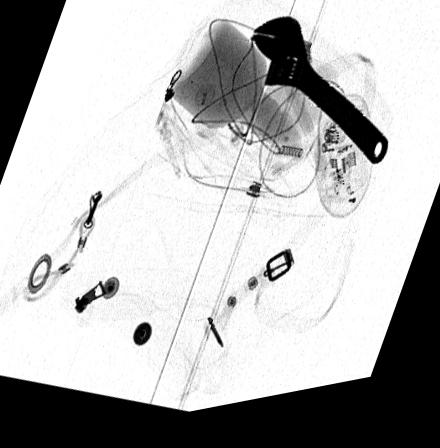Wrench: (232, 70, 274, 231)
